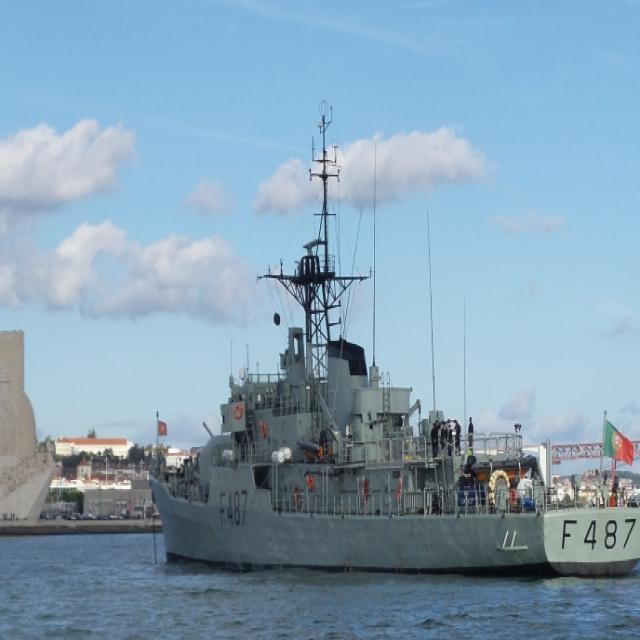Fragata: (136, 94, 640, 586)
